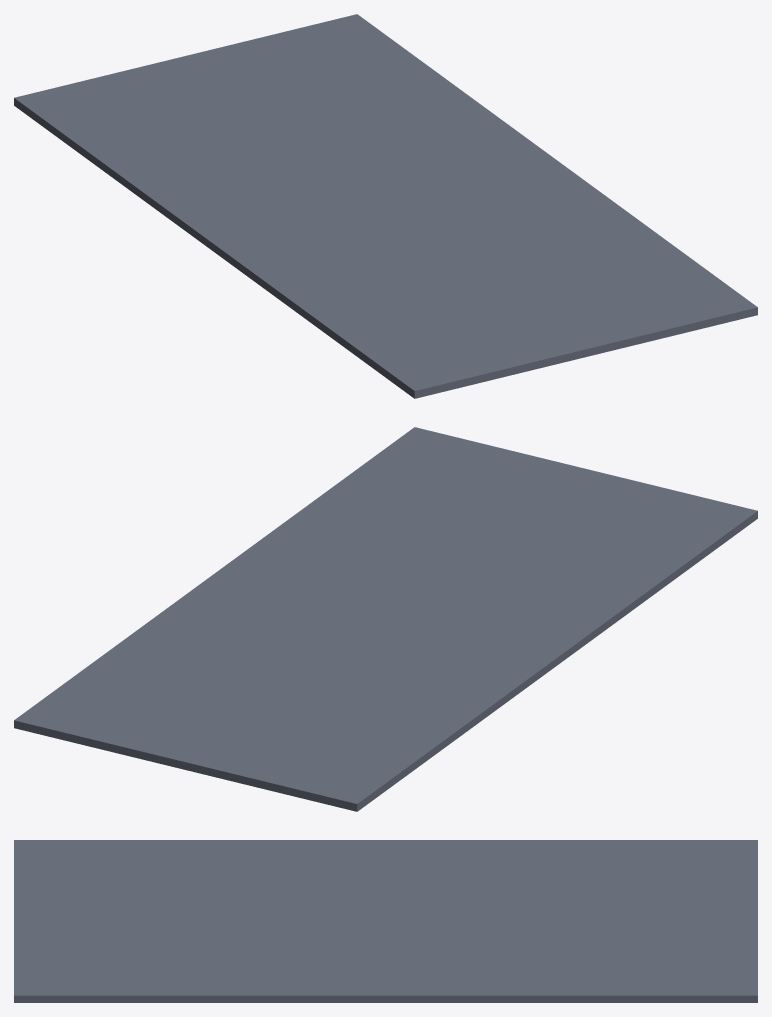
The model's file is archive_deep_ceiling.glb.
3 renders of one model, top to bottom at view 1: azimuth 30°, elevation 25°; view 2: azimuth 150°, elevation 25°; view 3: azimuth 270°, elevation 25°, orthographic. The views are drawn at different scales.
Parts seen in each view (by area): view 1: vault; view 2: vault; view 3: vault.
Boxes of the visible parts, left/top/right/bottom form: vault: left=14, top=14, right=757, bottom=398; vault: left=14, top=427, right=757, bottom=811; vault: left=14, top=840, right=757, bottom=1002.
Size of the model in its own units: 46 by 3.04 by 93.
